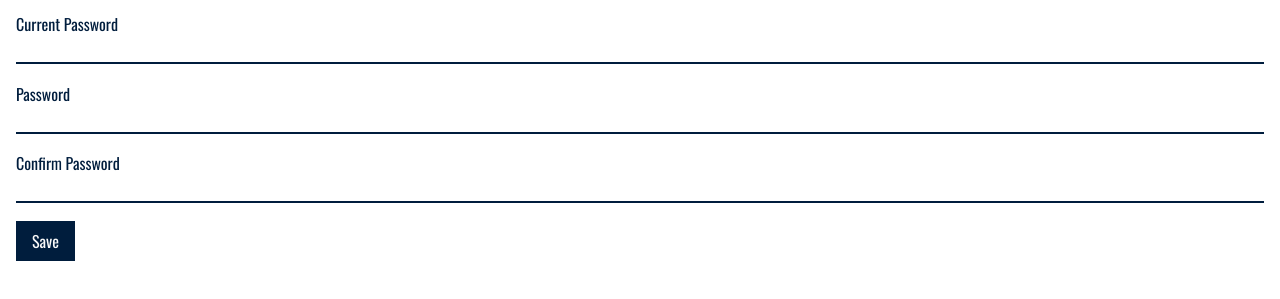
Edit User Password Form › should display an error message for a current password less than 8 characters long
Type "Pa$$" into the password field labelled "Current Password" at [640, 51], box [16,37,1264,64]
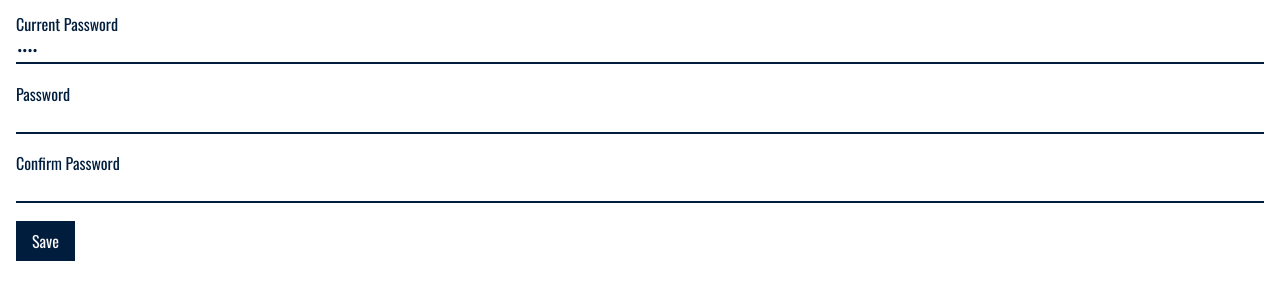
Type "Pa$$w0rd" into the password field labelled "Password" at [640, 120], box [16,107,1264,134]
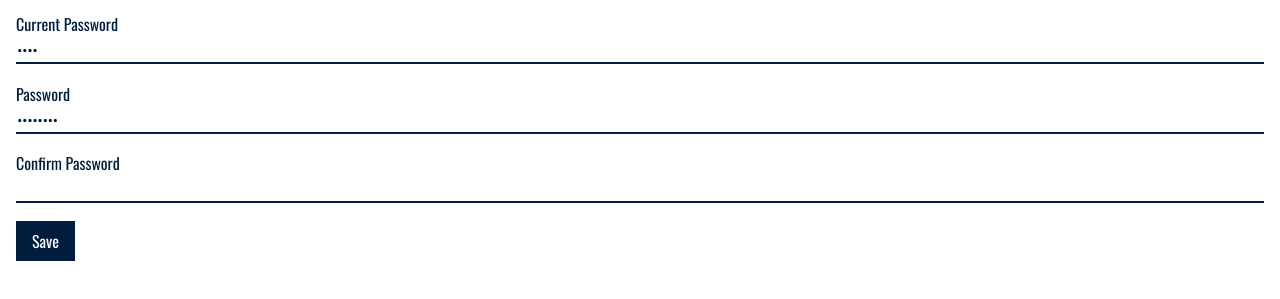
Type "Pa$$w0rd" into the password field labelled "Confirm Password" at [640, 190], box [16,176,1264,203]
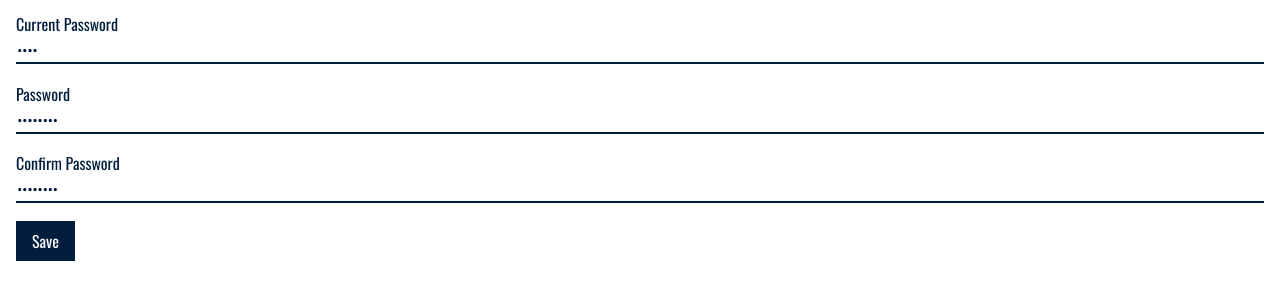
Click the button "Save" at [46, 240], box [16,220,75,260]
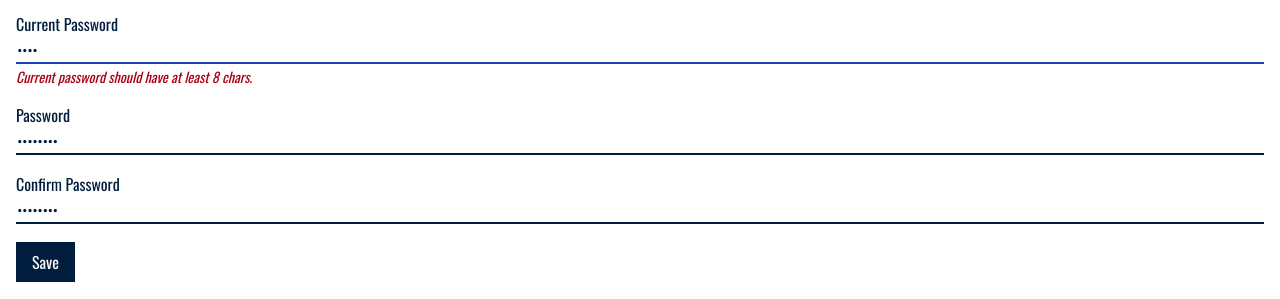
Now the text "Current password should have at least 8 chars." is shown, box [16,66,252,86]
